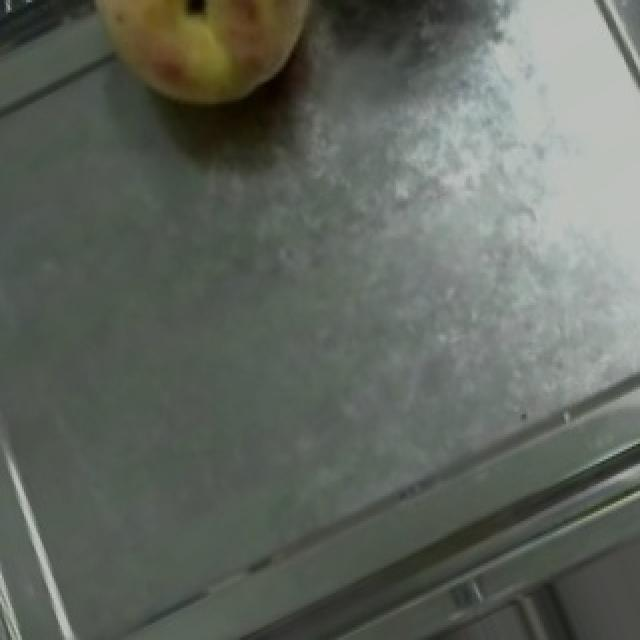Fruit: (54, 0, 344, 146)
